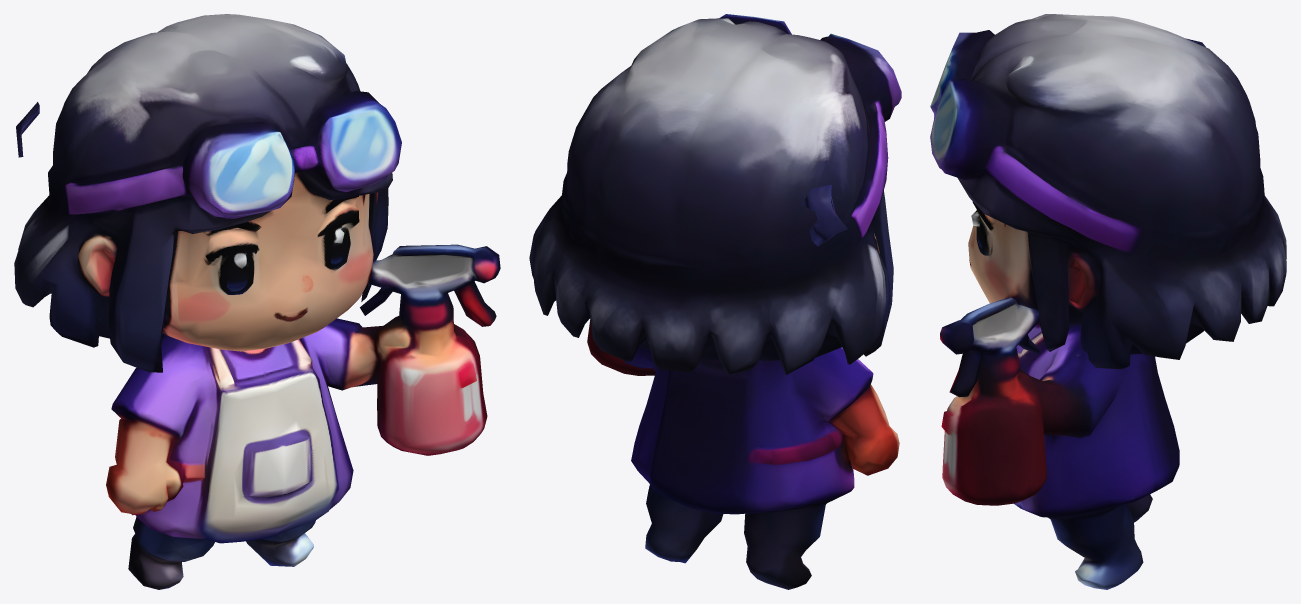
Rendered from hero_spray_tripo_20261113.glb.
3 views of the same model, side by side, from view 1: azimuth 30°, elevation 25°; view 2: azimuth 150°, elevation 25°; view 3: azimuth 270°, elevation 25° (orthographic). The views are drawn at different scales.
Visible parts, largest first — view 1: tripo_node_c80a9a3f-4196-45e0-9099-d5ad5e5e6084; view 2: tripo_node_c80a9a3f-4196-45e0-9099-d5ad5e5e6084; view 3: tripo_node_c80a9a3f-4196-45e0-9099-d5ad5e5e6084.
Part boxes in pixels (box(x1,y1,x2,y2)): tripo_node_c80a9a3f-4196-45e0-9099-d5ad5e5e6084: box(14, 14, 500, 589); tripo_node_c80a9a3f-4196-45e0-9099-d5ad5e5e6084: box(529, 14, 901, 589); tripo_node_c80a9a3f-4196-45e0-9099-d5ad5e5e6084: box(930, 14, 1286, 589).
Bounding box in the file's own units: 0.7239 × 1 × 0.6152.
Materials: 1 (1 with a texture image).
